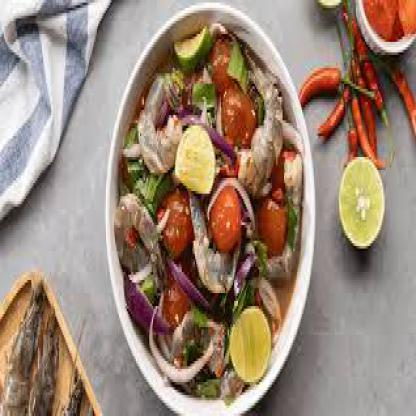Yum: (110, 16, 302, 408)
